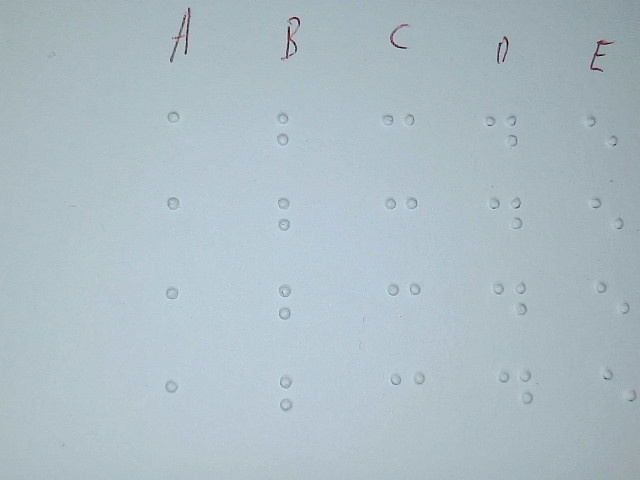A: (159, 102, 209, 178), (159, 186, 209, 262), (158, 276, 208, 352), (157, 369, 207, 445)
B: (268, 103, 318, 177), (269, 189, 319, 263), (270, 275, 320, 349), (272, 367, 322, 441)
C: (376, 105, 423, 175), (379, 187, 426, 257), (381, 273, 428, 343), (385, 363, 432, 433)
